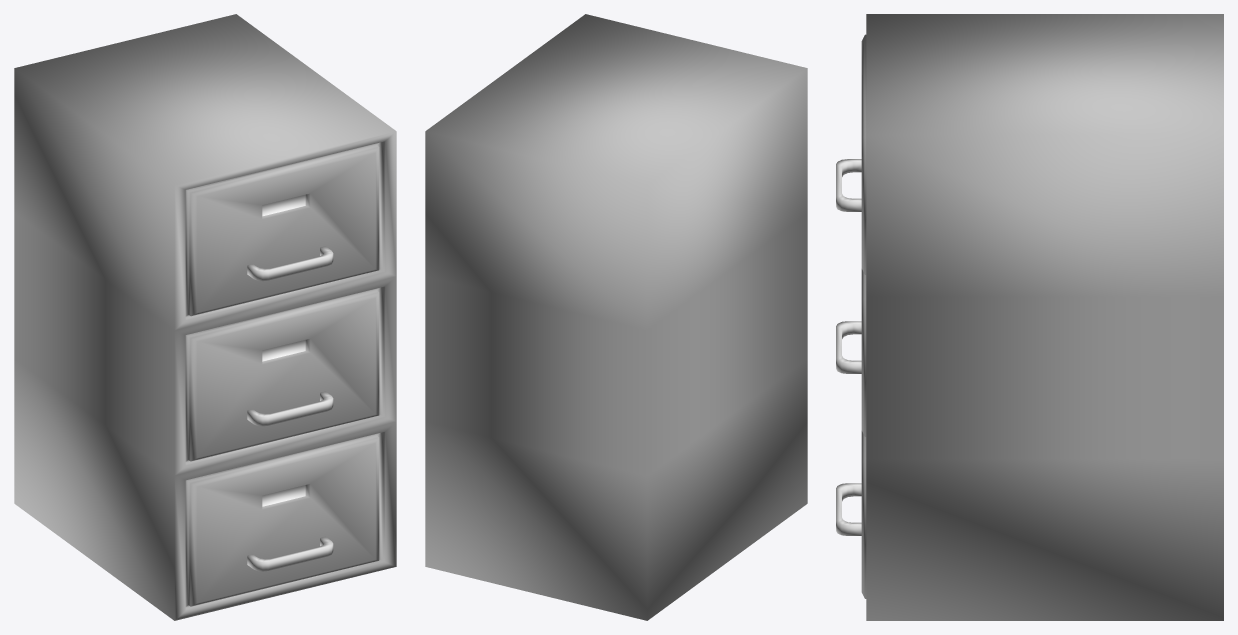
Rendered from GAMEJAMHERO - Prop(Filing Cabinet).fbx.
3 renders of one model, left to right at view 1: azimuth 30°, elevation 25°; view 2: azimuth 150°, elevation 25°; view 3: azimuth 270°, elevation 25°, orthographic. The views are drawn at different scales.
Parts seen in each view (by area): view 1: Plane.005; view 2: Plane.005; view 3: Plane.005.
Part boxes in pixels (x1,y1,x2,y2): Plane.005: [14, 14, 396, 620]; Plane.005: [425, 14, 807, 620]; Plane.005: [836, 14, 1223, 620].
Bounding box in the file's own units: 70.4 × 132 × 95.48.
Materials: 1 (1 with a texture image).
